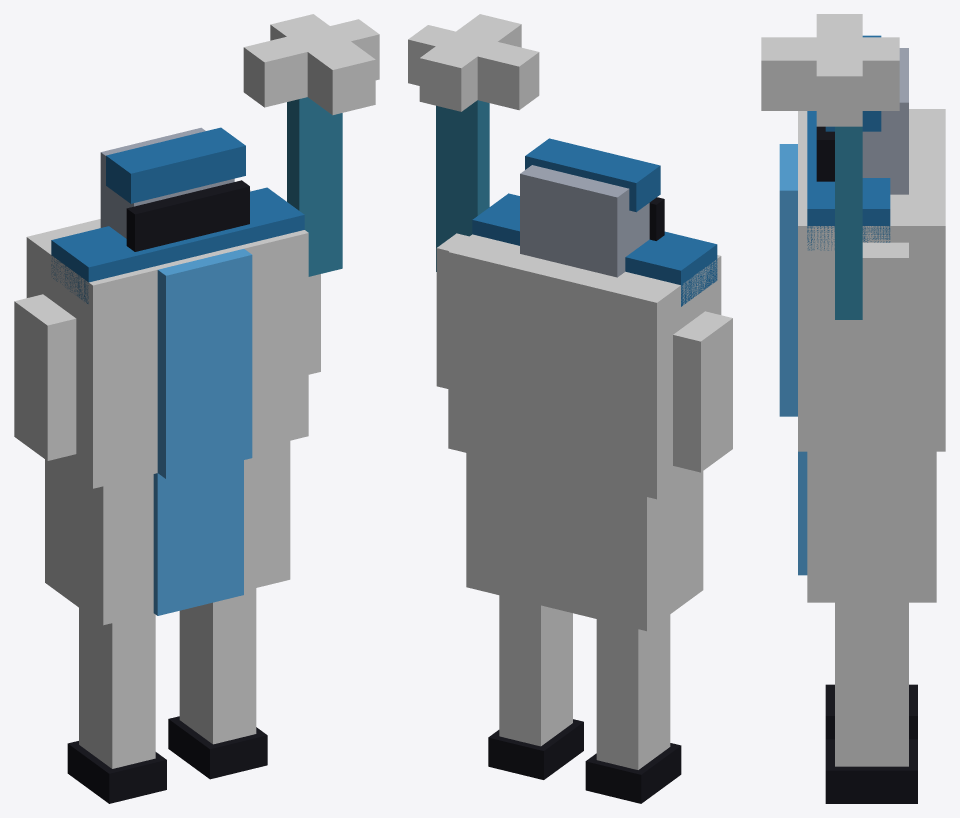
The model's file is healer.gltf.
The picture shows the model from 3 angles, left to right: view 1: azimuth 30°, elevation 25°; view 2: azimuth 150°, elevation 25°; view 3: azimuth 270°, elevation 25°; orthographic projection. The views are drawn at different scales.
Visible parts, largest first — view 1: 07_suit_dome, 04_suit_skirt, 09_stole_chest, 05_stole_skirt, 02_left_shin, 03_right_shin, 06_left_arm, 10_shoulder_yoke, 12_injector, 14_brow_band, 15_cross_bar, 13_visor_recess (+5 smaller); view 2: 07_suit_dome, 04_suit_skirt, 11_head, 02_left_shin, 03_right_shin, 06_left_arm, 12_injector, 10_shoulder_yoke, 15_cross_bar, 16_cross_stem, 14_brow_band, 00_left_boot (+3 smaller); view 3: 07_suit_dome, 04_suit_skirt, 03_right_shin, 08_right_arm, 16_cross_stem, 12_injector, 15_cross_bar, 09_stole_chest, 10_shoulder_yoke, 01_right_boot, 11_head, 05_stole_skirt (+3 smaller).
Boxes of the visible parts, box(x1,y1,x2,y2) form: 07_suit_dome: box(26, 190, 308, 488); 04_suit_skirt: box(45, 441, 290, 625); 09_stole_chest: box(157, 249, 252, 478); 05_stole_skirt: box(153, 460, 243, 615); 02_left_shin: box(79, 608, 155, 768); 03_right_shin: box(179, 588, 256, 744); 06_left_arm: box(14, 294, 76, 460); 10_shoulder_yoke: box(51, 187, 304, 303); 12_injector: box(287, 97, 342, 276); 14_brow_band: box(106, 127, 245, 203); 15_cross_bar: box(243, 19, 379, 107); 13_visor_recess: box(126, 180, 249, 251); 07_suit_dome: box(448, 234, 721, 499); 04_suit_skirt: box(466, 453, 703, 631); 11_head: box(520, 165, 649, 277); 02_left_shin: box(596, 614, 670, 769); 03_right_shin: box(499, 595, 572, 746); 06_left_arm: box(673, 311, 732, 472); 12_injector: box(436, 100, 489, 271); 10_shoulder_yoke: box(472, 193, 717, 306); 15_cross_bar: box(408, 25, 539, 110); 16_cross_stem: box(419, 14, 521, 111); 14_brow_band: box(525, 138, 660, 212); 00_left_boot: box(585, 743, 681, 803); 07_suit_dome: box(798, 109, 945, 451); 04_suit_skirt: box(807, 451, 936, 602); 03_right_shin: box(835, 602, 908, 766); 08_right_arm: box(835, 242, 908, 416); 16_cross_stem: box(761, 37, 899, 110); 12_injector: box(835, 126, 862, 319); 15_cross_bar: box(816, 14, 862, 126); 09_stole_chest: box(779, 144, 797, 416); 10_shoulder_yoke: box(807, 111, 890, 250); 01_right_boot: box(825, 739, 917, 803); 11_head: box(862, 48, 908, 194); 05_stole_skirt: box(798, 451, 807, 575).
Bounding box in the file's own units: 0.7031 × 1.47 × 0.3125.
